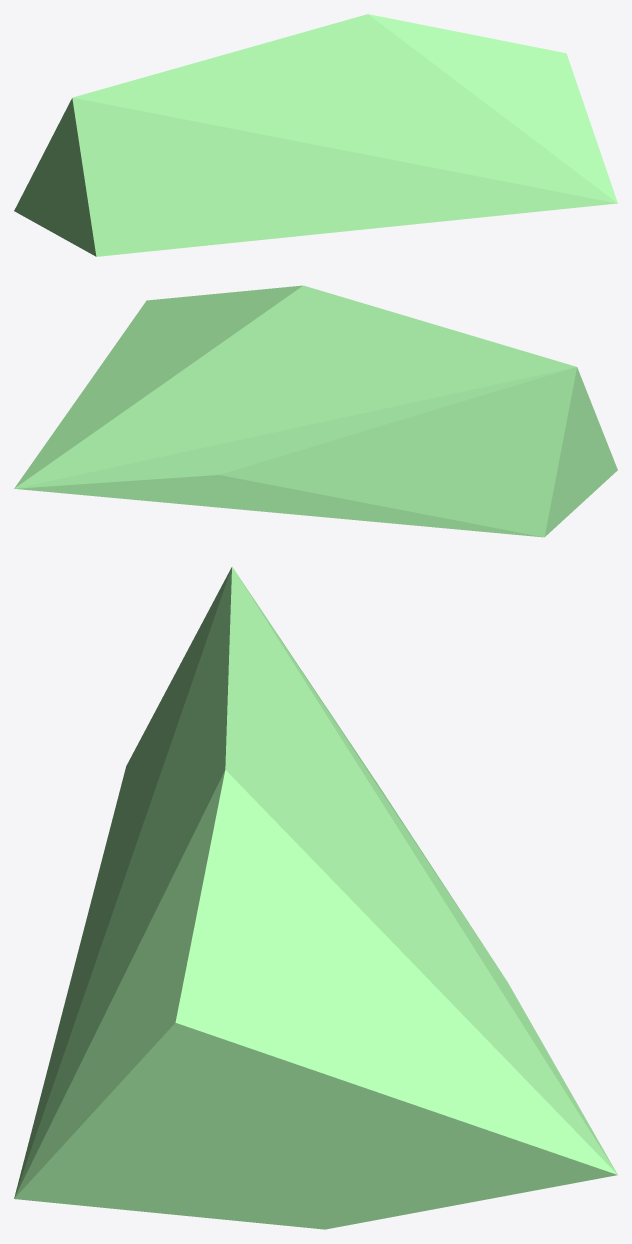
The model's file is xarm7_with_gripper_LR4_R560_link7_respondable_coll_6.dae.
3 renders of one model, top to bottom at view 1: azimuth 30°, elevation 25°; view 2: azimuth 150°, elevation 25°; view 3: azimuth 270°, elevation 25°, orthographic. The views are drawn at different scales.
Parts seen in each view (by area): view 1: Node_000001B88F9E1B20; view 2: Node_000001B88F9E1B20; view 3: Node_000001B88F9E1B20.
Boxes of the visible parts, bbox=[...] form: Node_000001B88F9E1B20: bbox=[14, 14, 617, 256]; Node_000001B88F9E1B20: bbox=[14, 285, 617, 537]; Node_000001B88F9E1B20: bbox=[14, 566, 617, 1229].
Bounding box in the file's own units: 0.00801 × 0.0032 × 0.00548.
